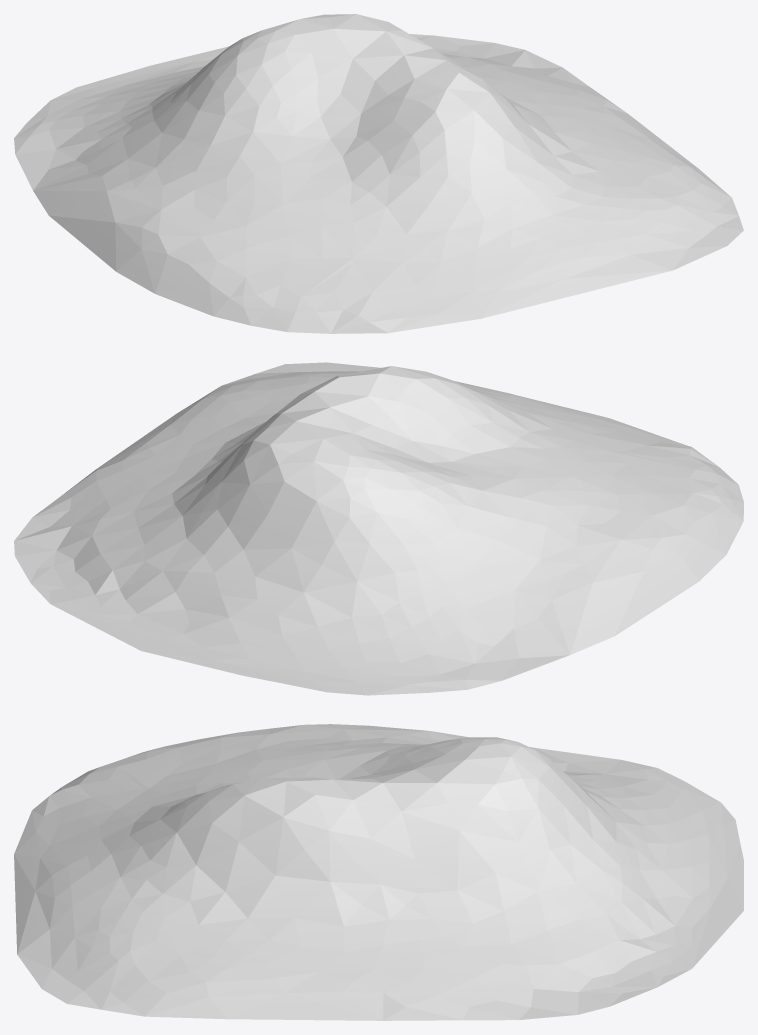
Rendered from Hill_15.glb.
3 views of the same model, one above another, from view 1: azimuth 30°, elevation 25°; view 2: azimuth 150°, elevation 25°; view 3: azimuth 270°, elevation 25° (orthographic). The views are drawn at different scales.
Visible parts, largest first — view 1: Hill_15; view 2: Hill_15; view 3: Hill_15.
Boxes of the visible parts, left/top/right/bottom form: Hill_15: left=14, top=14, right=743, bottom=333; Hill_15: left=14, top=362, right=743, bottom=695; Hill_15: left=14, top=724, right=743, bottom=1020.
Bounding box in the file's own units: 56.1 × 11.83 × 60.91.
1 material, 1 textured.
